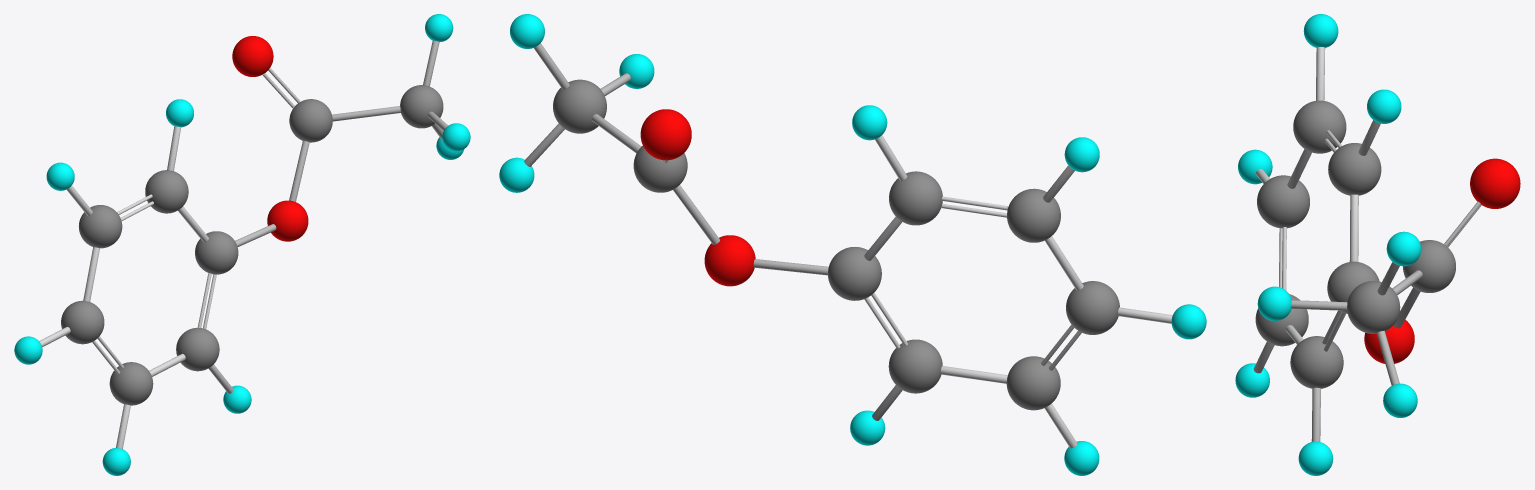
File: methyl benzoate.glb
The picture shows the model from 3 angles, left to right: view 1: azimuth 30°, elevation 25°; view 2: azimuth 150°, elevation 25°; view 3: azimuth 270°, elevation 25°; orthographic projection. The views are drawn at different scales.
Visible parts, largest first — view 1: CMAtom_13, CMAtom_5, CMAtom_4, CMAtom_2, CMAtom_0, CMAtom_1, CMAtom_3, CMAtom_14, CMAtom_12, CMAtom_11, CMAtom_7, CMAtom_17 (+7 smaller); view 2: CMAtom_1, CMAtom_5, CMAtom_3, CMAtom_4, CMAtom_0, CMAtom_2, CMAtom_14, CMAtom_12, CMAtom_11, CMAtom_13, CMAtom_7, CMAtom_8 (+6 smaller); view 3: CMAtom_1, CMAtom_4, CMAtom_3, CMAtom_0, CMAtom_14, CMAtom_12, CMAtom_13, CMAtom_2, CMAtom_5, CMAtom_11, CMAtom_10, CMAtom_8 (+16 smaller).
Part boxes in pixels (box(x1,y1,x2,y2)): CMAtom_13: box(289, 99, 332, 142); CMAtom_5: box(109, 362, 153, 405); CMAtom_4: box(145, 170, 188, 213); CMAtom_2: box(195, 231, 238, 274); CMAtom_0: box(78, 205, 122, 248); CMAtom_1: box(176, 327, 219, 371); CMAtom_3: box(61, 300, 104, 344); CMAtom_14: box(400, 85, 443, 128); CMAtom_12: box(232, 36, 273, 76); CMAtom_11: box(267, 200, 308, 241); CMAtom_7: box(14, 336, 42, 364); CMAtom_17: box(442, 123, 470, 151); CMAtom_1: box(888, 339, 942, 393); CMAtom_5: box(1006, 356, 1060, 410); CMAtom_3: box(1066, 281, 1119, 334); CMAtom_4: box(889, 171, 942, 225); CMAtom_0: box(1007, 188, 1060, 242); CMAtom_2: box(828, 247, 881, 300); CMAtom_14: box(553, 79, 606, 133); CMAtom_12: box(640, 109, 691, 160); CMAtom_11: box(704, 235, 755, 286); CMAtom_13: box(633, 146, 687, 192); CMAtom_7: box(1171, 304, 1206, 339); CMAtom_8: box(852, 105, 887, 140); CMAtom_1: box(1290, 336, 1343, 388); CMAtom_4: box(1328, 143, 1381, 195); CMAtom_3: box(1257, 175, 1309, 228); CMAtom_0: box(1293, 100, 1346, 153); CMAtom_14: box(1347, 281, 1400, 333); CMAtom_12: box(1470, 158, 1520, 208); CMAtom_13: box(1403, 240, 1455, 292); CMAtom_2: box(1327, 261, 1379, 313); CMAtom_5: box(1255, 294, 1308, 346); CMAtom_11: box(1364, 320, 1414, 363); CMAtom_10: box(1298, 441, 1333, 475); CMAtom_8: box(1367, 89, 1401, 123).
Size of the model in its own units: 8.28 by 5.01 by 3.3.
